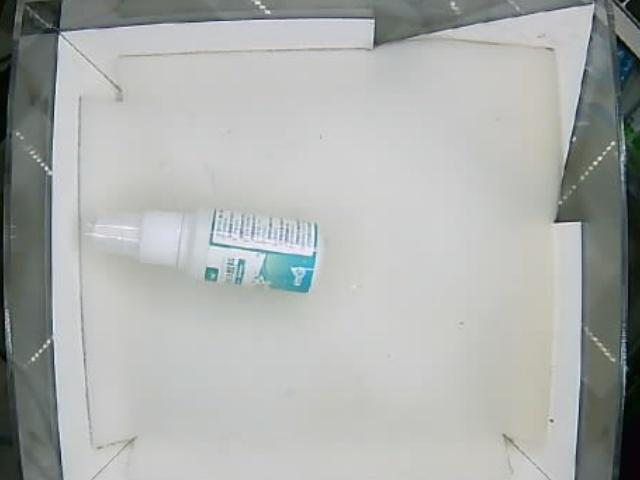Bottle: (88, 209, 319, 295)
